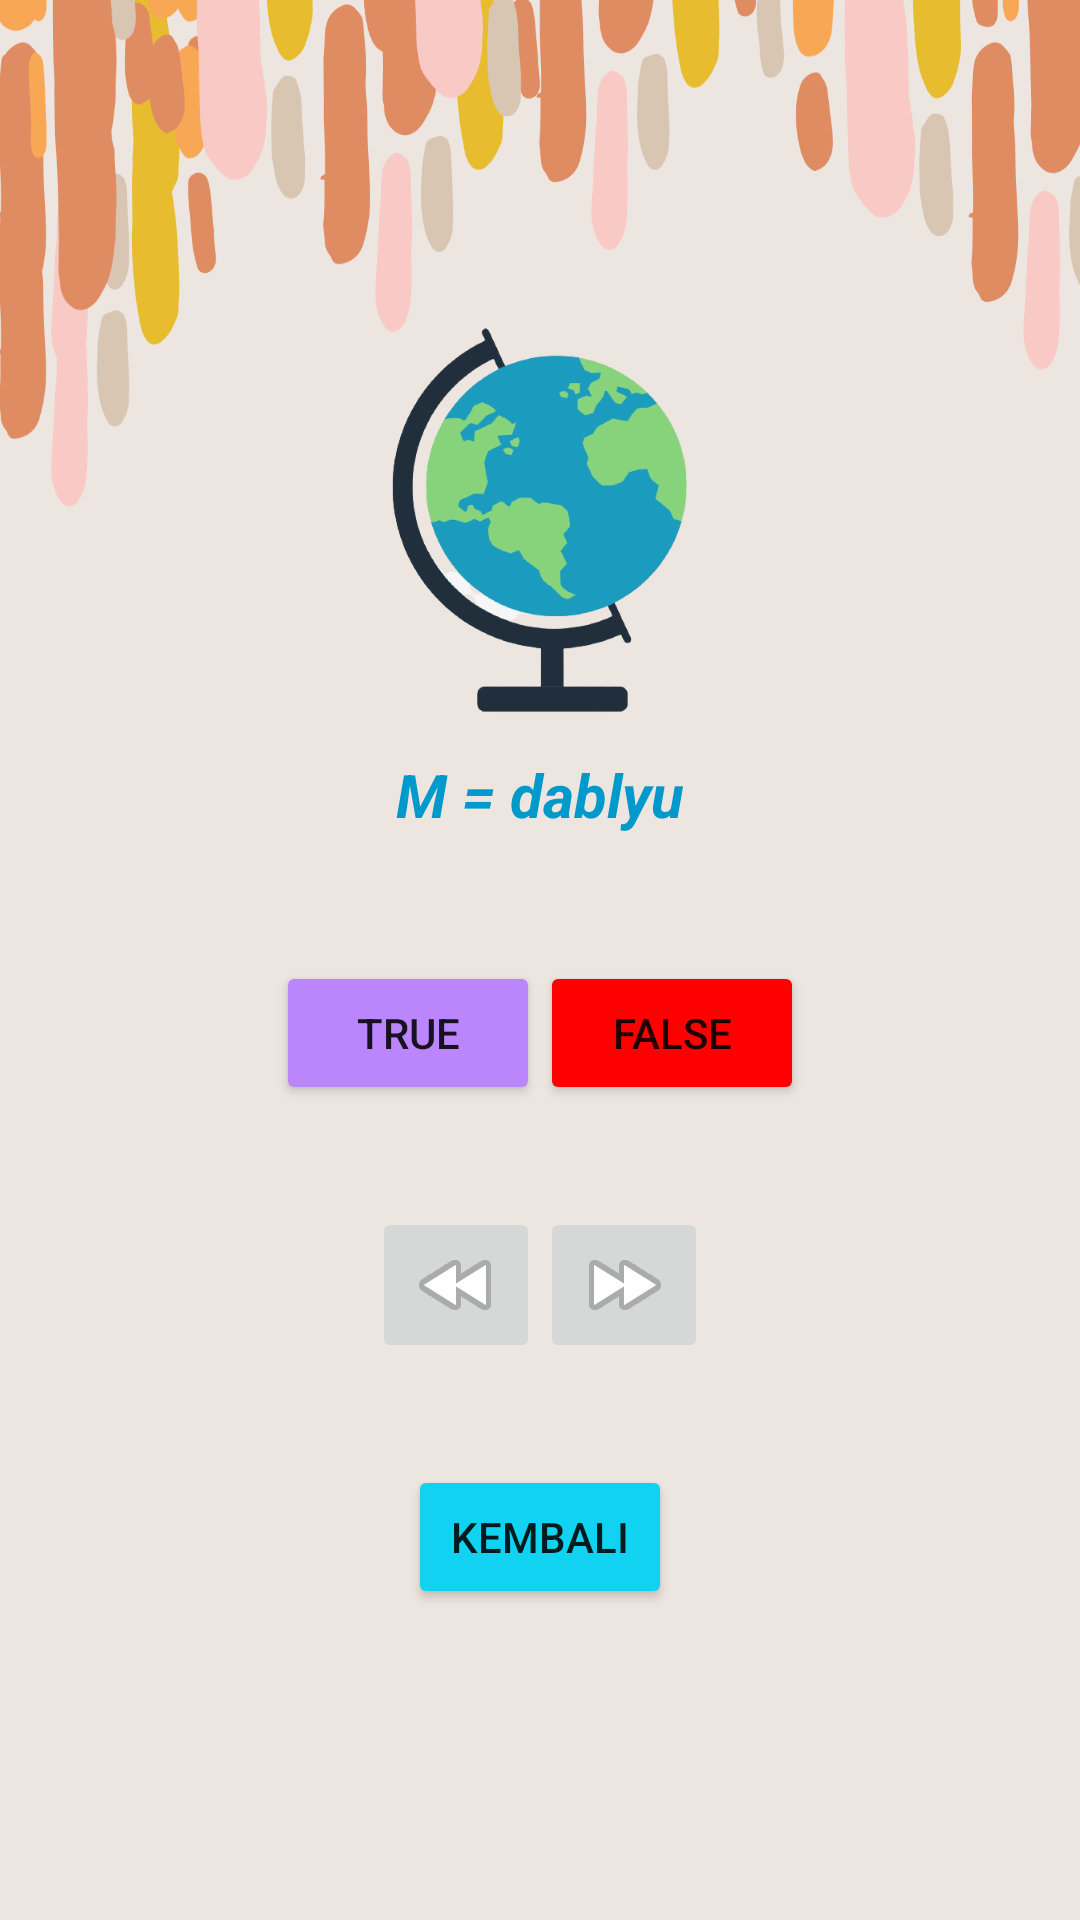

Locate icon controls on the screen. Image size 1080*1920, boxes as bbox(x1, y1, x2, y2).
previous: bbox(419, 1260, 491, 1310)
